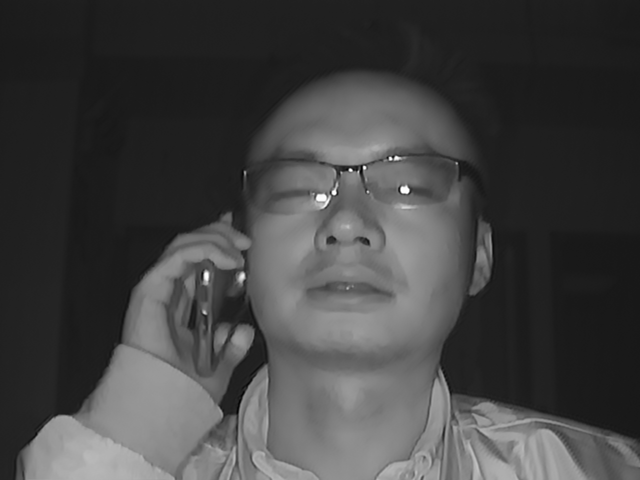hand: (127, 210, 258, 387)
